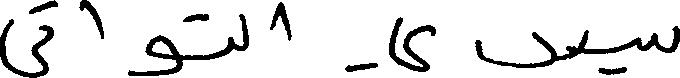X: (348, 12, 434, 76), (478, 27, 554, 72), (0, 0, 43, 77), (185, 9, 232, 64), (579, 25, 625, 77), (129, 30, 179, 77), (640, 21, 679, 57), (86, 0, 102, 43), (45, 0, 53, 77), (282, 0, 289, 45), (240, 9, 246, 55)
